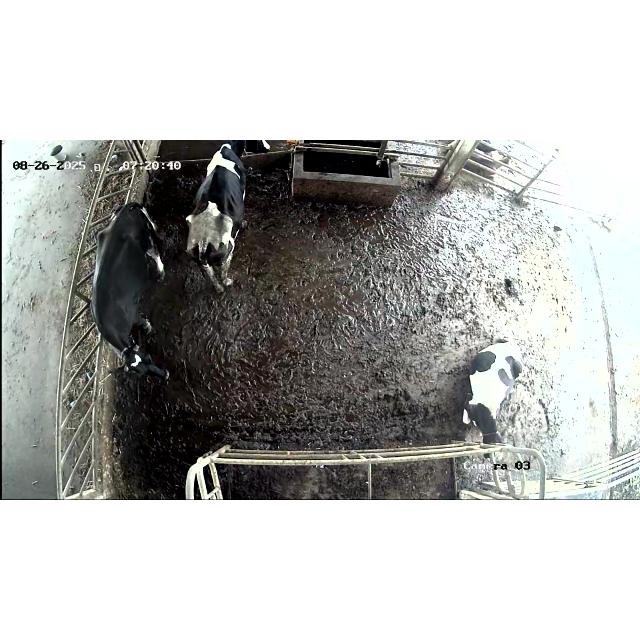stand: (87, 203, 175, 391), (174, 140, 278, 298)
